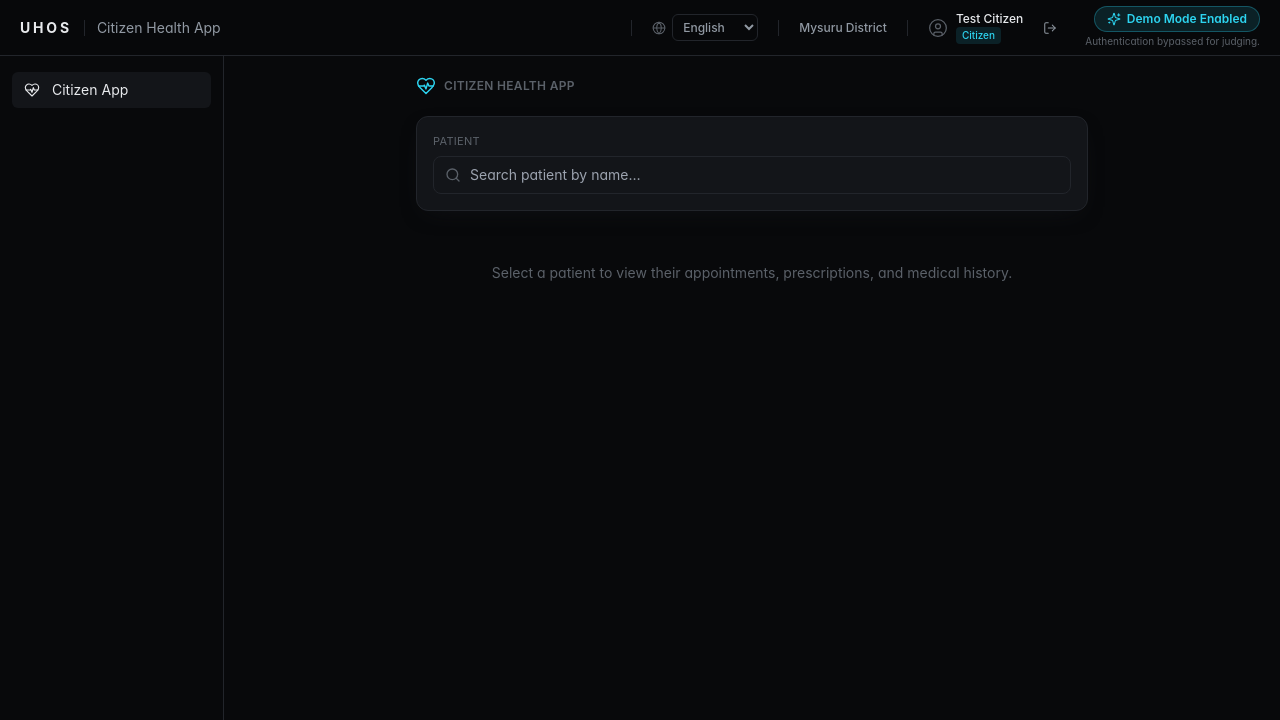
Citizen App — My Referrals tab › shows the citizen's referral with destination, status, and reserved bed
The width and height of the screenshot is (1280, 720).
Type "Asha" into the field with placeholder "Search patient by name…" at (752, 174), box x1=433 y1=156 x2=1071 y2=194
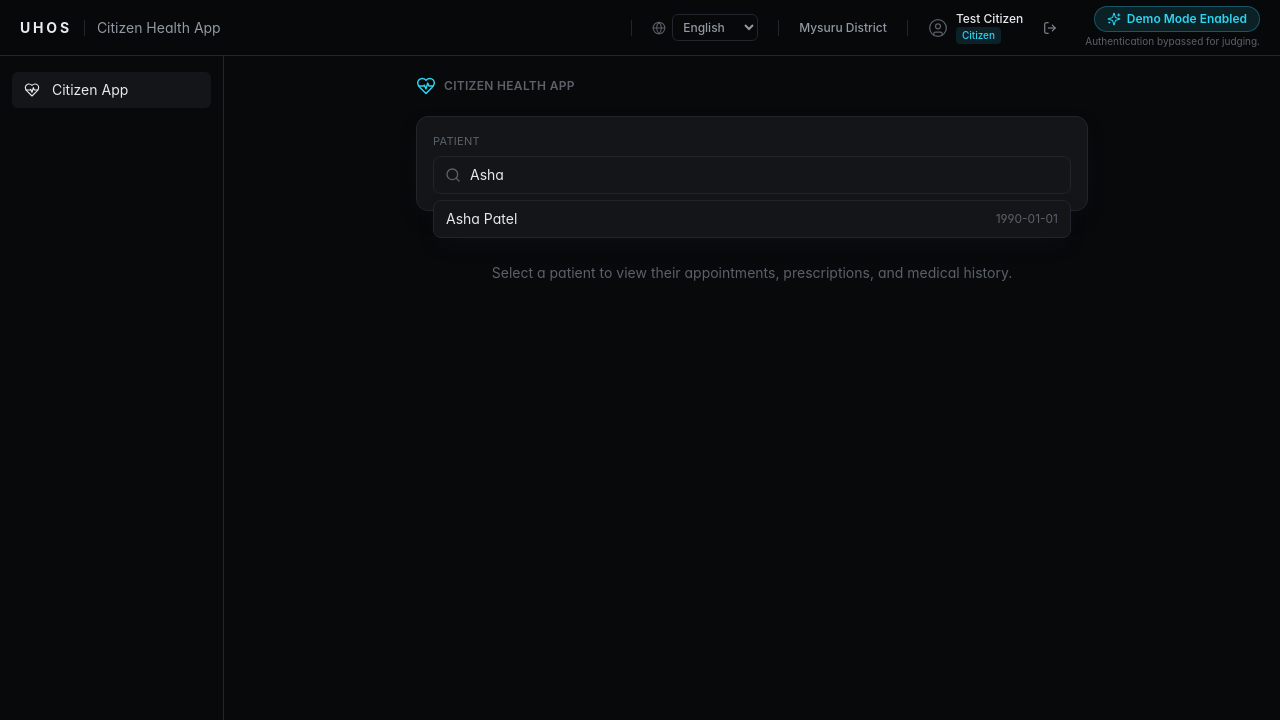
expect the text "Asha Patel" is shown: met
Click the text "Asha Patel" at (482, 218), box x1=446 y1=208 x2=517 y2=228
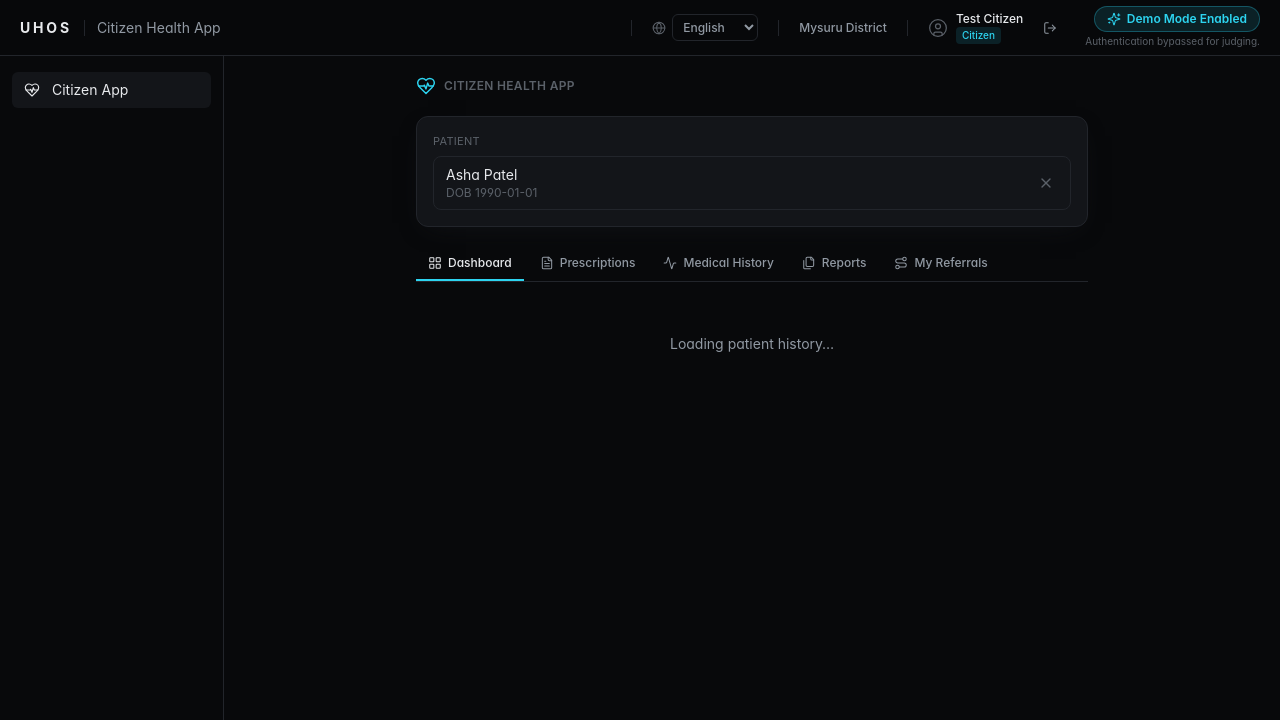
expect the button "My Referrals" is shown: met
Click the button "My Referrals" at (941, 264), box x1=882 y1=246 x2=1000 y2=280
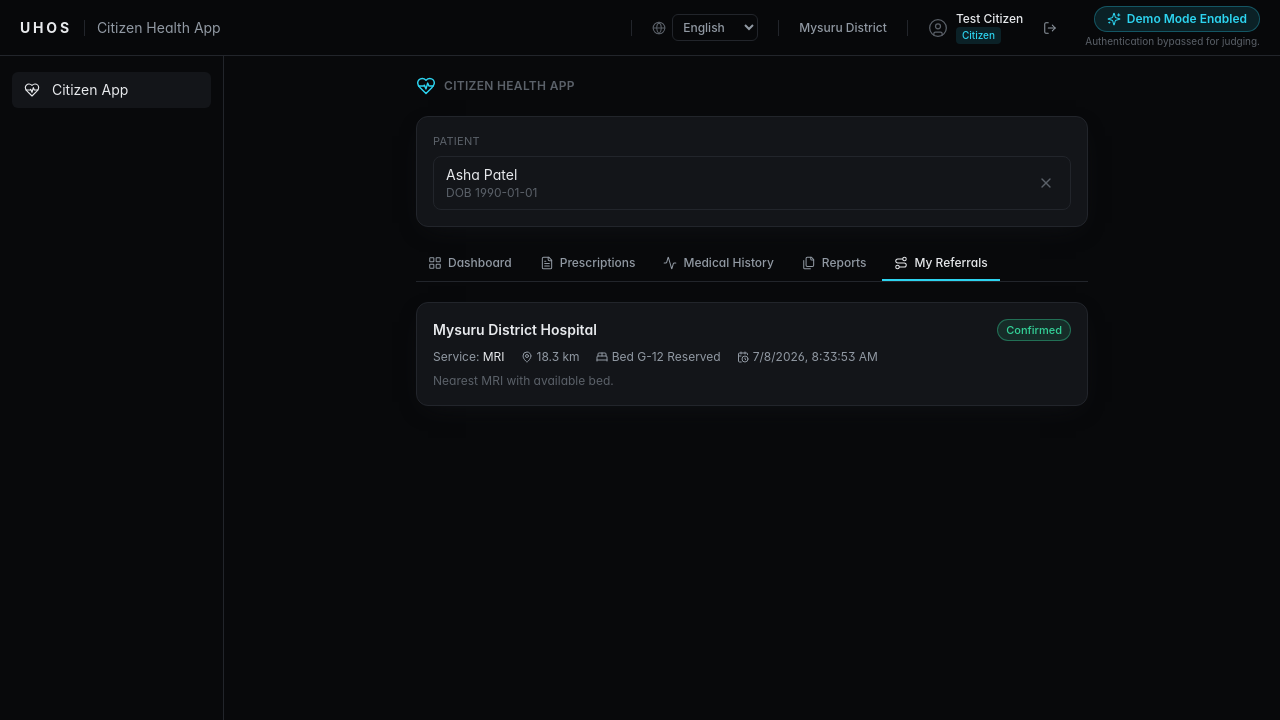
expect the text "Mysuru District Hospital" is shown: met, box x1=433 y1=320 x2=597 y2=340
expect the text "Bed G-12 Reserved" is shown: met, box x1=596 y1=349 x2=721 y2=365
expect the text "confirmed" is shown: met, box x1=997 y1=318 x2=1071 y2=341
